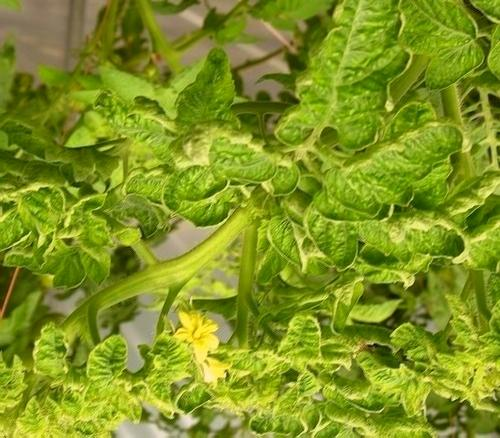Tomato leaf yellow virus: (285, 0, 403, 155), (133, 124, 302, 229), (303, 181, 473, 275), (333, 107, 471, 214), (206, 291, 353, 381), (167, 42, 254, 142), (120, 331, 195, 420), (351, 340, 443, 404), (1, 180, 70, 252), (257, 213, 321, 268), (26, 313, 74, 386), (81, 323, 135, 384)
